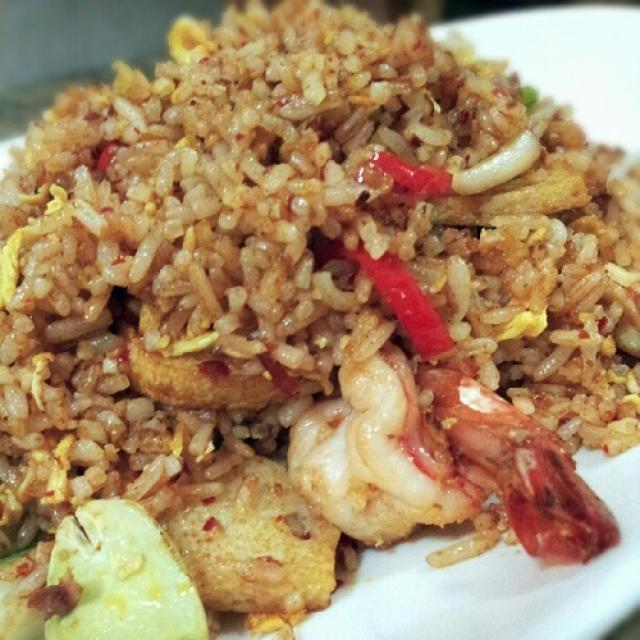米饭主食: (4, 10, 619, 611)
